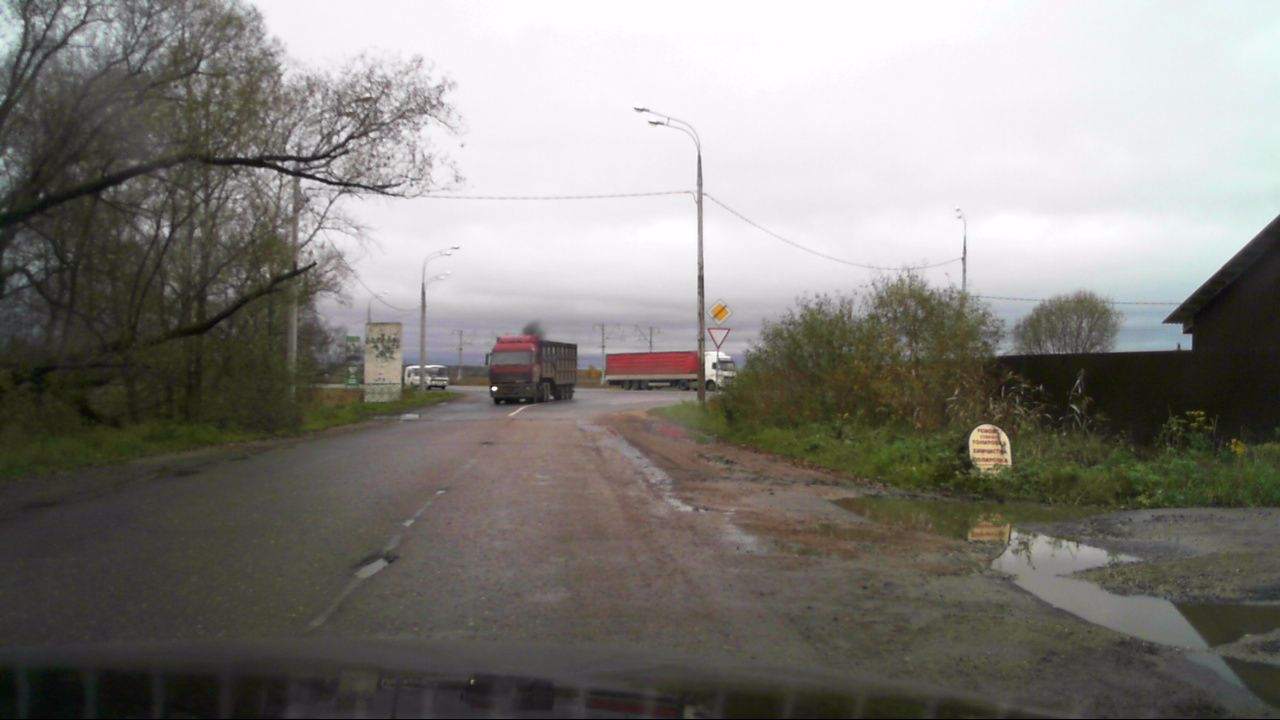main road: (705, 297, 731, 327)
